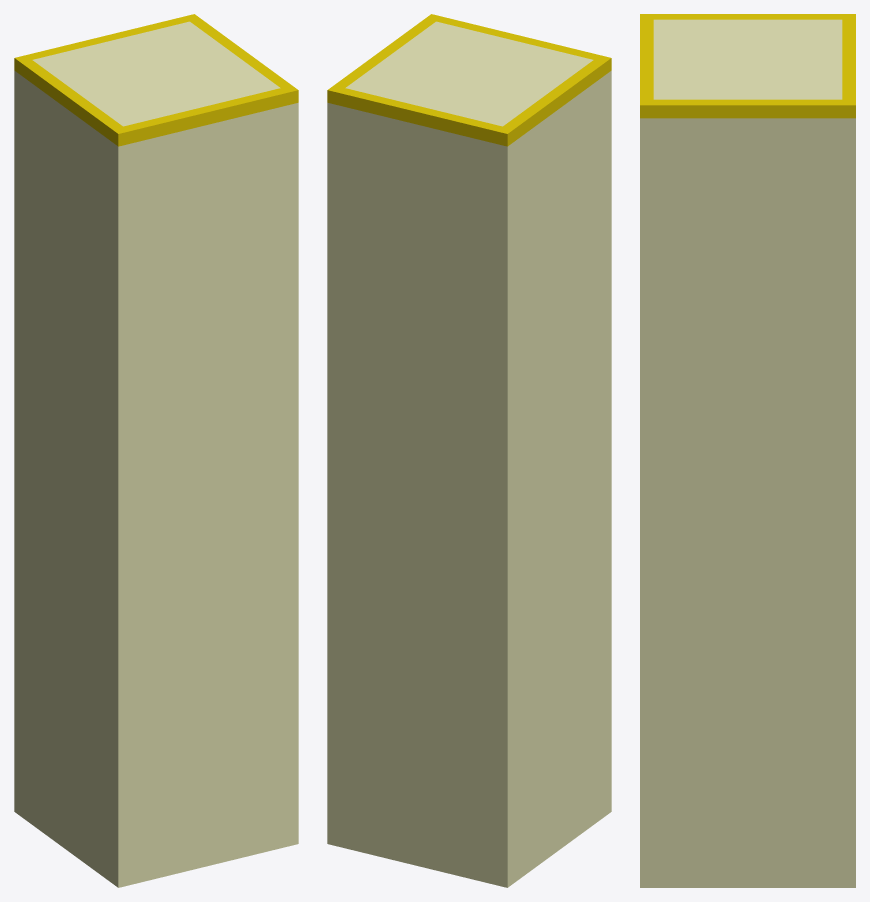
Rendered from yellow.fbx.
3 views of the same model, side by side, from view 1: azimuth 30°, elevation 25°; view 2: azimuth 150°, elevation 25°; view 3: azimuth 270°, elevation 25° (orthographic). The views are drawn at different scales.
Visible parts, largest first — view 1: yellow; view 2: yellow; view 3: yellow.
Part boxes in pixels (<box>): yellow: <box>14,14,298,887</box>; yellow: <box>327,14,611,887</box>; yellow: <box>640,14,855,887</box>.
Size of the model in its own units: 1 by 4 by 1.
